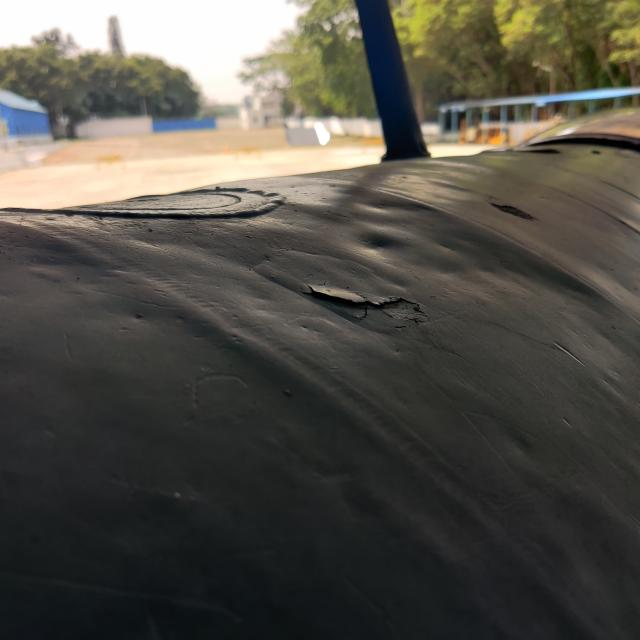crack: (296, 271, 431, 337)
dent: (435, 220, 612, 328), (346, 216, 416, 260)
